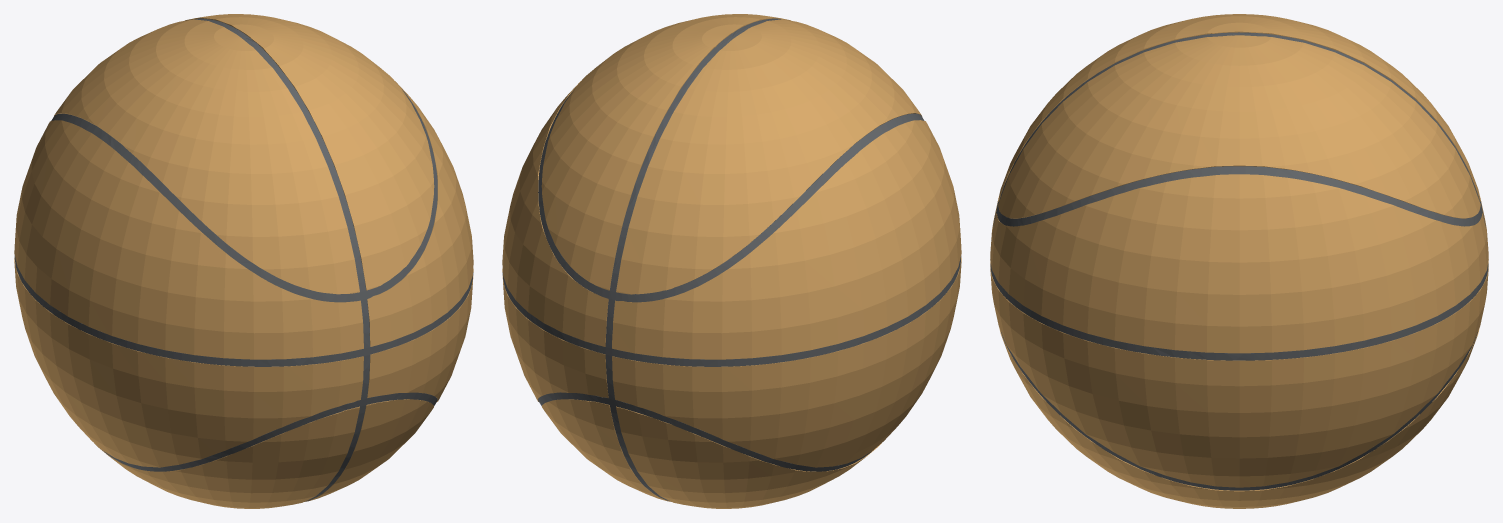
Rendered from ball2.glb.
The picture shows the model from 3 angles, left to right: view 1: azimuth 30°, elevation 25°; view 2: azimuth 150°, elevation 25°; view 3: azimuth 270°, elevation 25°; orthographic projection.
Visible parts, largest first — view 1: Mesh_Mesh_head_geo.001_lambert2SG.001; view 2: Mesh_Mesh_head_geo.001_lambert2SG.001; view 3: Mesh_Mesh_head_geo.001_lambert2SG.001.
Boxes of the visible parts, x1=… form: Mesh_Mesh_head_geo.001_lambert2SG.001: x1=14, y1=14, x2=473, y2=508; Mesh_Mesh_head_geo.001_lambert2SG.001: x1=502, y1=14, x2=961, y2=508; Mesh_Mesh_head_geo.001_lambert2SG.001: x1=990, y1=14, x2=1488, y2=508.
Size of the model in its own units: 0.009 by 0.01 by 0.00991.
